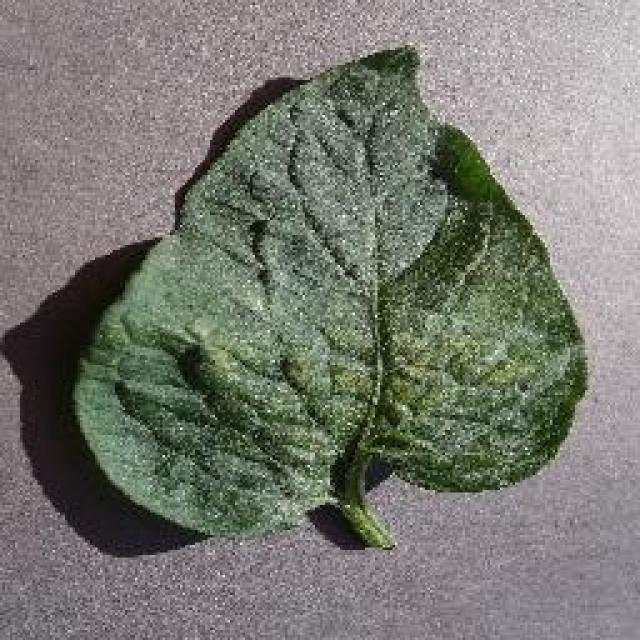Tomato spider mites leaf: (73, 46, 590, 542)
